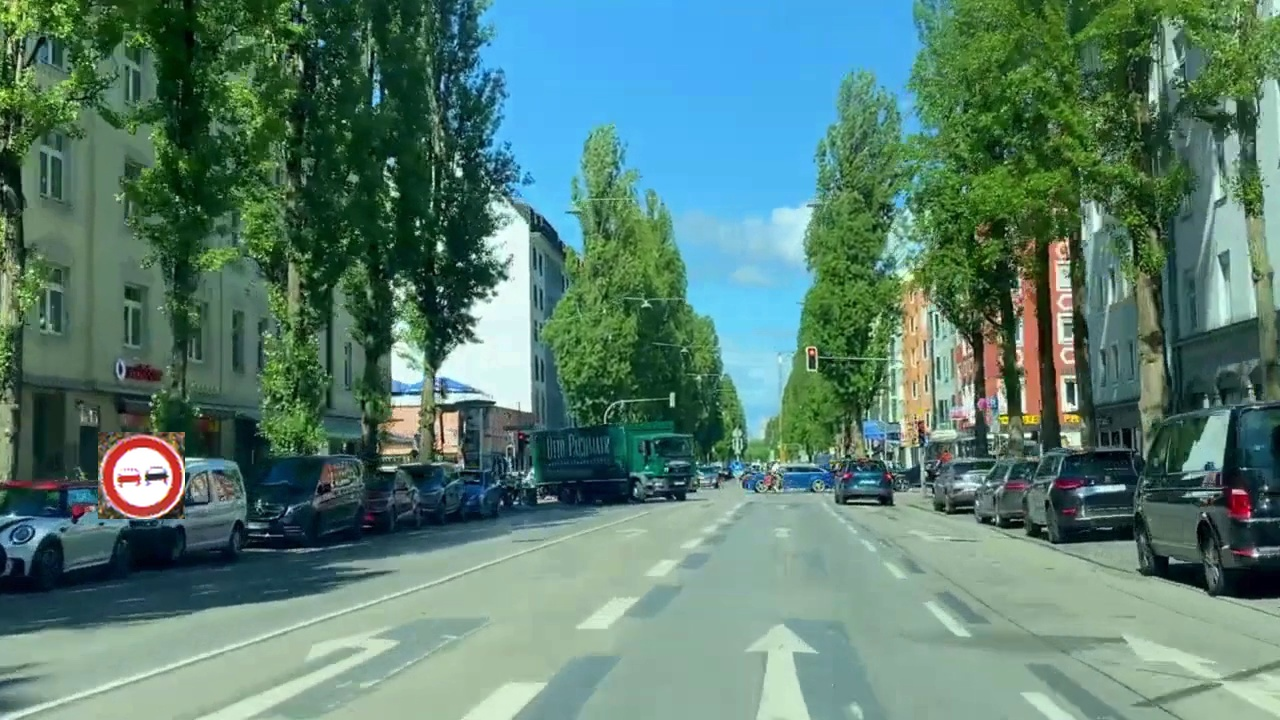No passing: (98, 432, 185, 519)
